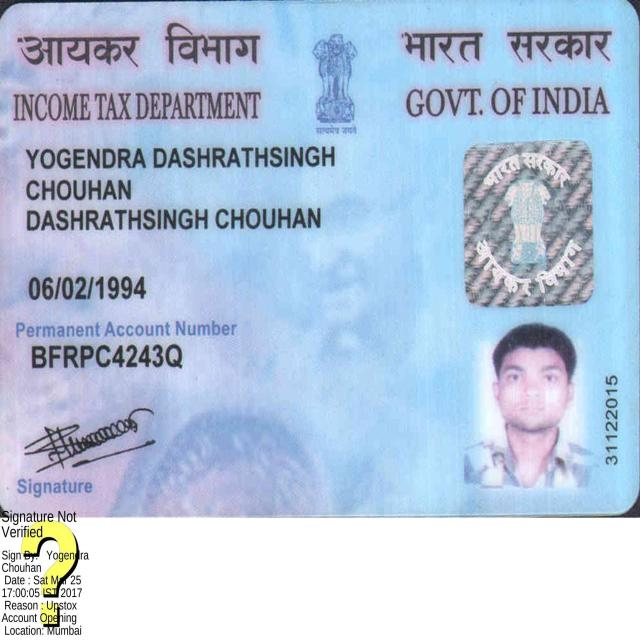pan_card: (3, 4, 634, 513)
